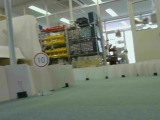speed_10: (32, 51, 50, 69)
